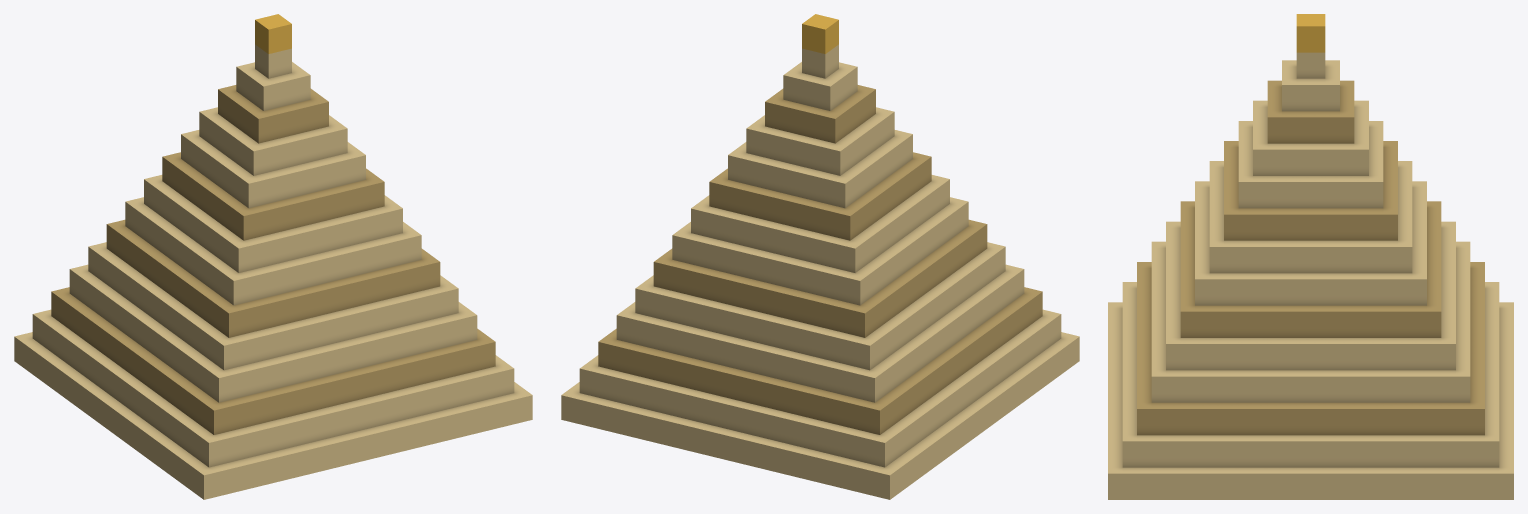
3 views of the same model, side by side, from view 1: azimuth 30°, elevation 25°; view 2: azimuth 150°, elevation 25°; view 3: azimuth 270°, elevation 25° (orthographic). The views are drawn at different scales.
Visible parts, largest first — view 1: w_pyramid_body; view 2: w_pyramid_body; view 3: w_pyramid_body.
Part boxes in pixels (left/top/right/bottom): w_pyramid_body: left=14, top=14, right=532, bottom=499; w_pyramid_body: left=561, top=14, right=1079, bottom=499; w_pyramid_body: left=1108, top=14, right=1513, bottom=499.
Bounding box in the file's own units: 1.75 × 1.88 × 1.75.
1 material, 1 textured.
